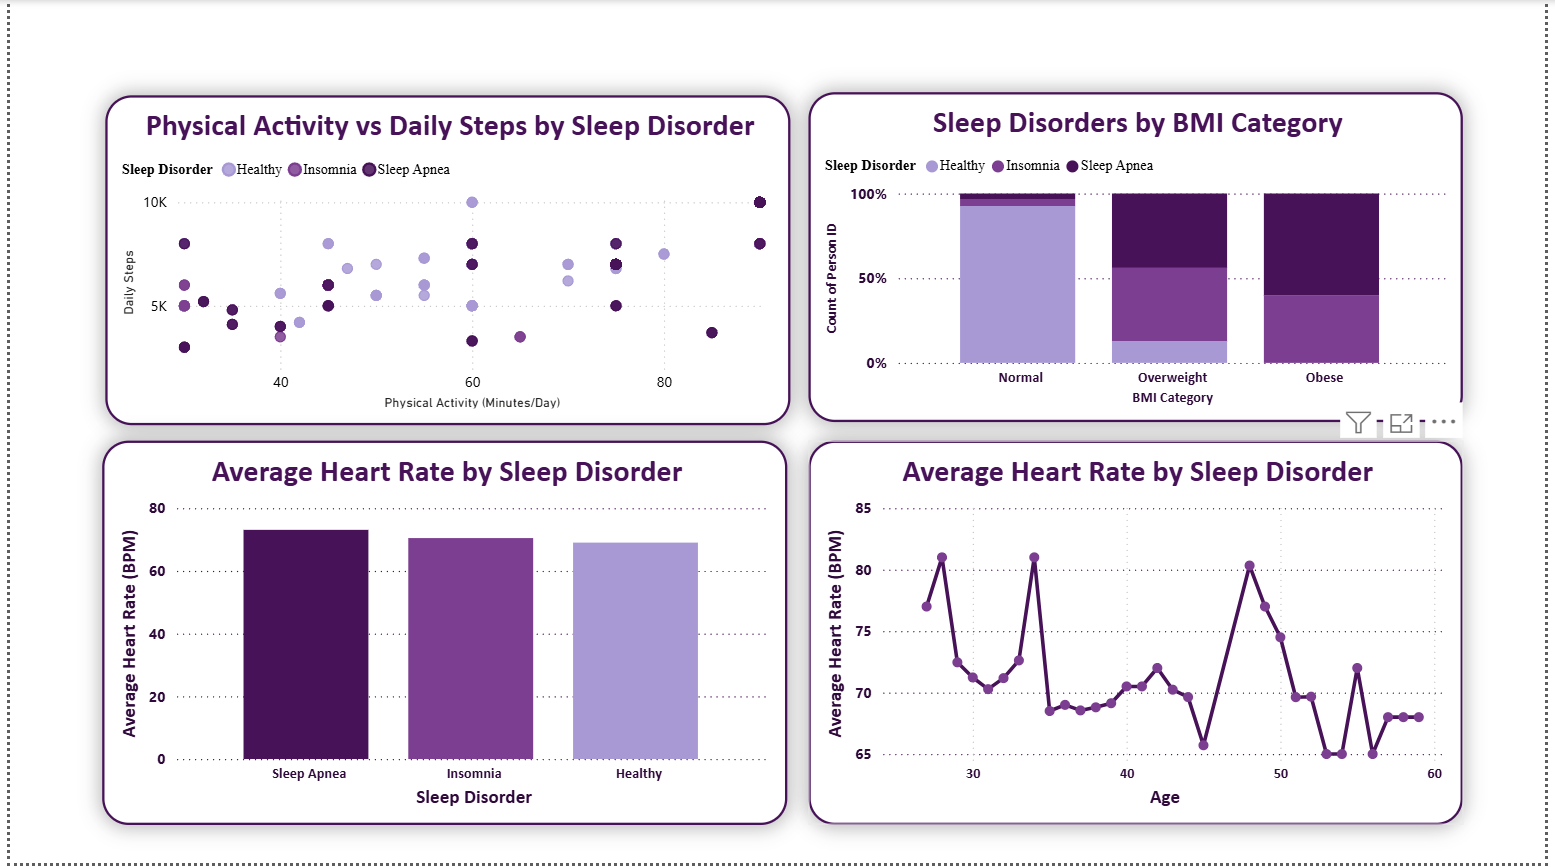

This screenshot's page, from the dashboard's own definition file:
{"tool":"powerbi","page":{"name":"Page 3","canvas":[1280,720],"ordinal":2},"visuals":[{"type":"scatterChart","title":"Physical Activity vs Daily Steps by Sleep Disorder","fields":{"X":["Avg(Sheet1.Physical Activity Level)"],"Y":["Avg(Sheet1.Daily Steps)"],"Series":["Sheet1.Sleep Disorder"],"Category":["Sheet1.Person ID"]},"box":[78.9,78.9,571.7,275.4],"z":0},{"type":"hundredPercentStackedColumnChart","title":"Sleep Disorders by BMI Category","fields":{"Category":["Sheet1.BMI Category"],"Y":["Count(Sheet1.Person ID)"],"Series":["Sheet1.Sleep Disorder"]},"box":[666.7,77.3,545.9,275.4],"z":1000},{"type":"clusteredColumnChart","title":"Average Heart Rate by Sleep Disorder","fields":{"Category":["Sheet1.Sleep Disorder"],"Y":["Avg(Sheet1.Heart Rate)"]},"box":[77.3,367.2,571.7,320.5],"z":2000},{"type":"lineChart","title":"Average Heart Rate by Sleep Disorder","fields":{"Category":["Sheet1.Age"],"Y":["Avg(Sheet1.Heart Rate)"]},"box":[666.7,367.2,545.9,320.5],"z":3000}]}

Visuals, with their boxes in screenshot pixels (x1, y1, x2, y2), scaled from the page's 1280x720 canvas onto the 1555x867 screenshot:
"Physical Activity vs Daily Steps by Sleep Disorder" scatterChart: 96 95 790 427
"Sleep Disorders by BMI Category" hundredPercentStackedColumnChart: 810 93 1473 425
"Average Heart Rate by Sleep Disorder" clusteredColumnChart: 94 442 788 828
"Average Heart Rate by Sleep Disorder" lineChart: 810 442 1473 828
